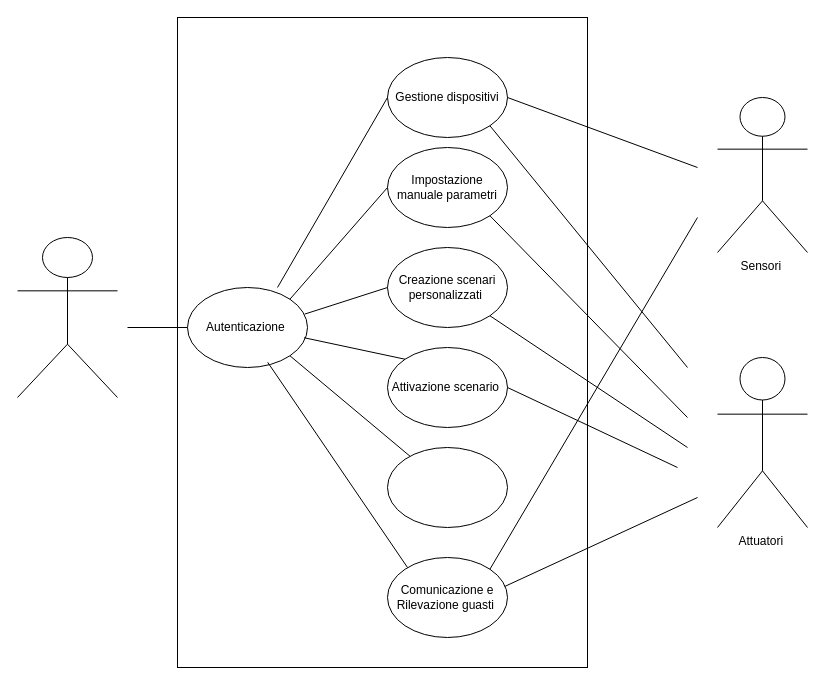
This 825x685 diagram has some shape labels left out. The centre of each missing label's shape, as x and y in pixels:
"CRUD Stanze" belongs at [447,487].
"Utente" belongs at [67,317].
